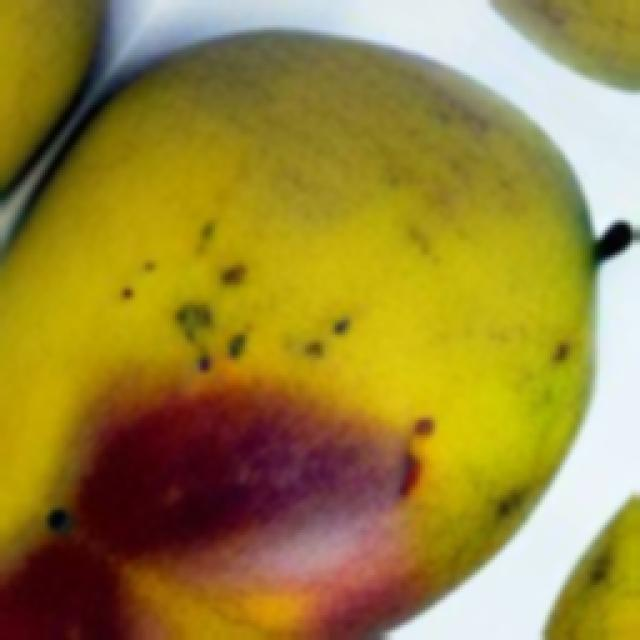defective: (0, 5, 638, 638)
